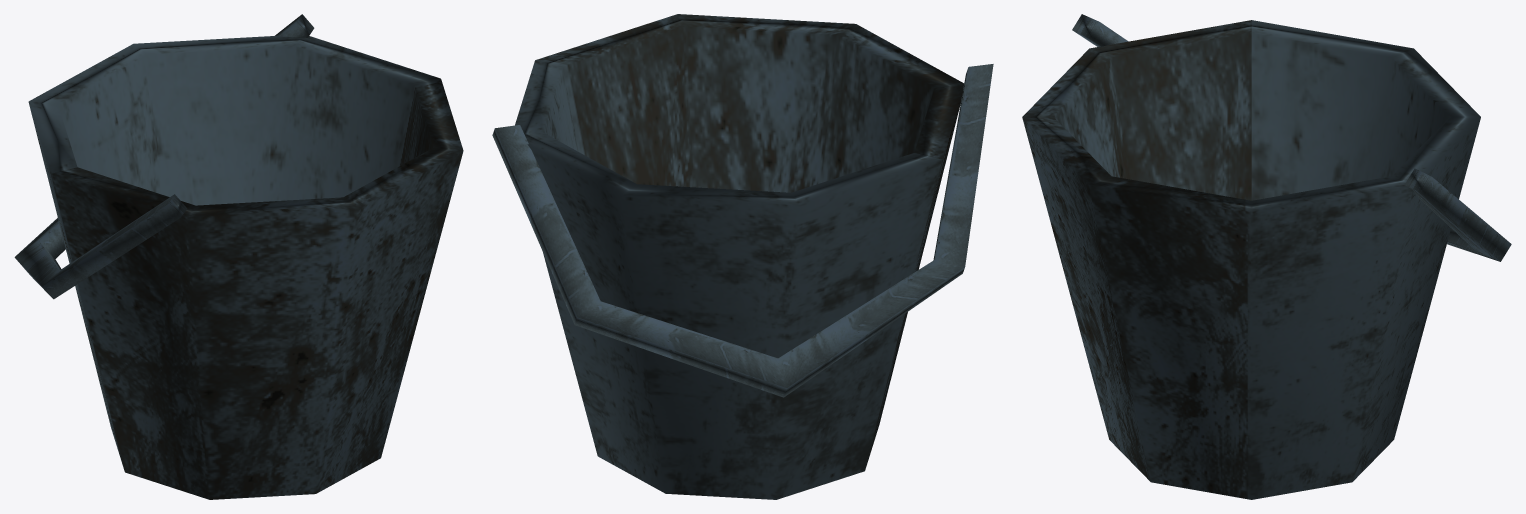
Rendered from bucket.fbx.
3 views of the same model, side by side, from view 1: azimuth 30°, elevation 25°; view 2: azimuth 150°, elevation 25°; view 3: azimuth 270°, elevation 25° (orthographic). The views are drawn at different scales.
Parts seen in each view (by area): view 1: bucket; view 2: bucket; view 3: bucket.
Boxes of the visible parts, <box> form: bucket: <box>14,14,463,499</box>; bucket: <box>492,14,993,499</box>; bucket: <box>1022,14,1511,499</box>.
Size of the model in its own units: 0.67 by 0.5356 by 0.6875.
